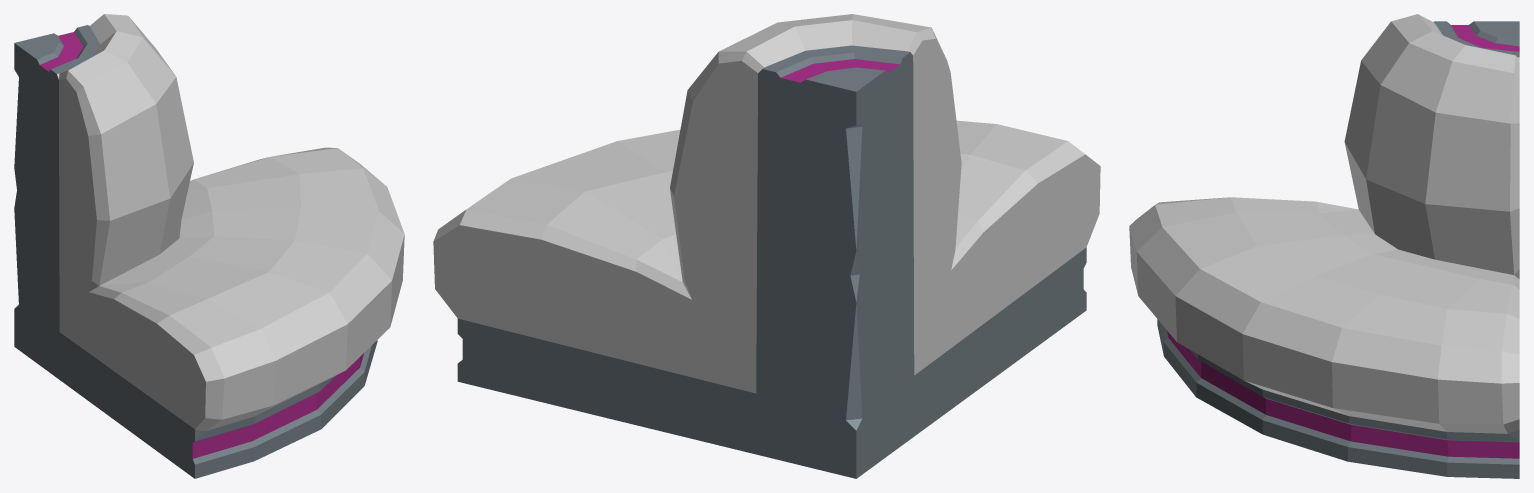
Rendered from SM_Prop_Sofa_02_Corner_07.fbx.
3 views of the same model, side by side, from view 1: azimuth 30°, elevation 25°; view 2: azimuth 150°, elevation 25°; view 3: azimuth 270°, elevation 25° (orthographic). The views are drawn at different scales.
Parts seen in each view (by area): view 1: SM_Prop_Sofa_02_Corner_07; view 2: SM_Prop_Sofa_02_Corner_07; view 3: SM_Prop_Sofa_02_Corner_07.
Part boxes in pixels (<box>): SM_Prop_Sofa_02_Corner_07: <box>14,14,404,478</box>; SM_Prop_Sofa_02_Corner_07: <box>433,14,1100,478</box>; SM_Prop_Sofa_02_Corner_07: <box>1129,14,1519,478</box>.
Size of the model in its own units: 124 by 111 by 124.
